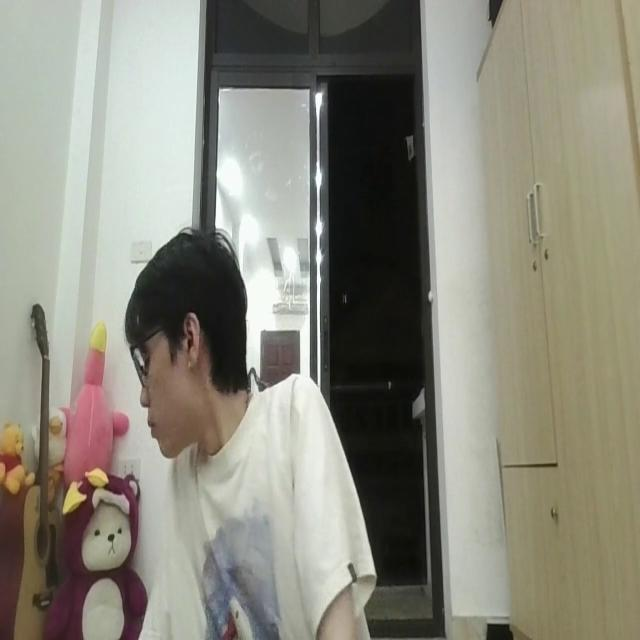student: (118, 219, 363, 640)
